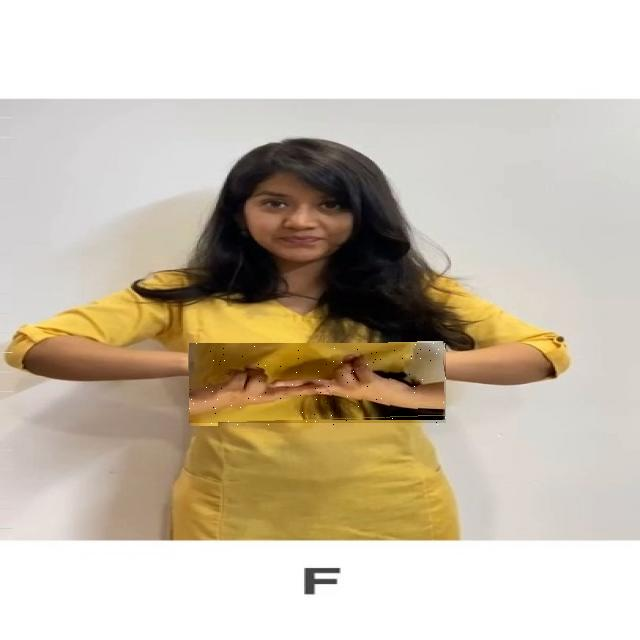F: (189, 344, 446, 426)
